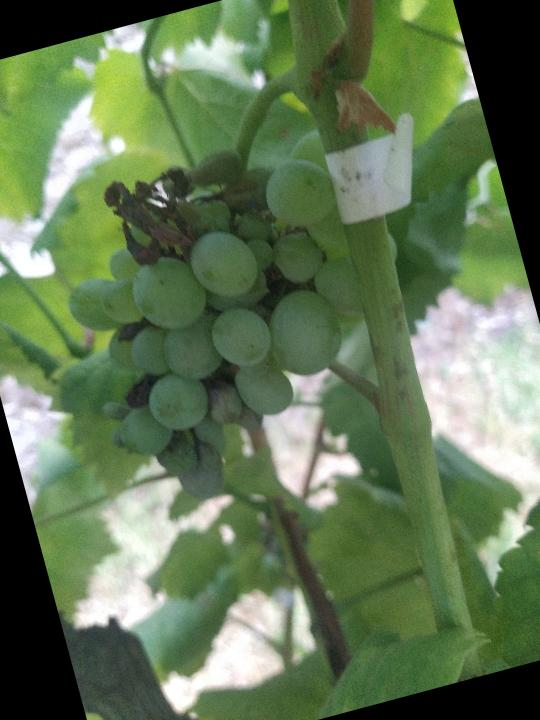grape: (32, 118, 403, 525)
